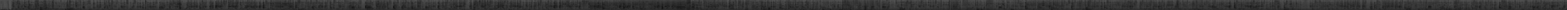Moan: (597, 0, 600, 10), (1551, 0, 1554, 10), (657, 0, 659, 10)
